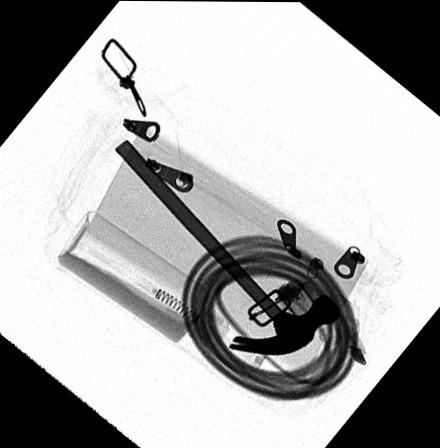Hammer: (113, 138, 340, 357)
